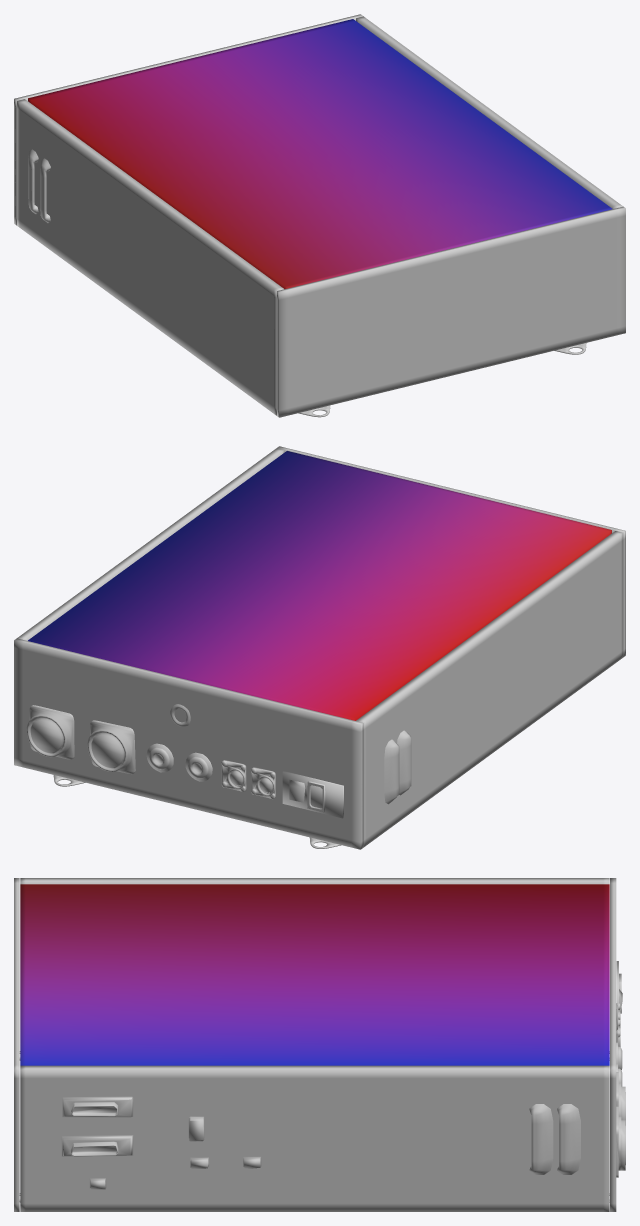
Rendered from DAU.gltf.
3 renders of one model, top to bottom at view 1: azimuth 30°, elevation 25°; view 2: azimuth 150°, elevation 25°; view 3: azimuth 270°, elevation 25°, orthographic. The views are drawn at different scales.
Parts seen in each view (by area): view 1: DAU; view 2: DAU; view 3: DAU.
Boxes of the visible parts, left/top/right/bottom form: DAU: left=14, top=14, right=625, bottom=417; DAU: left=14, top=446, right=625, bottom=849; DAU: left=14, top=878, right=625, bottom=1211.
Size of the model in its own units: 0.5487 by 0.1939 by 0.7014.
